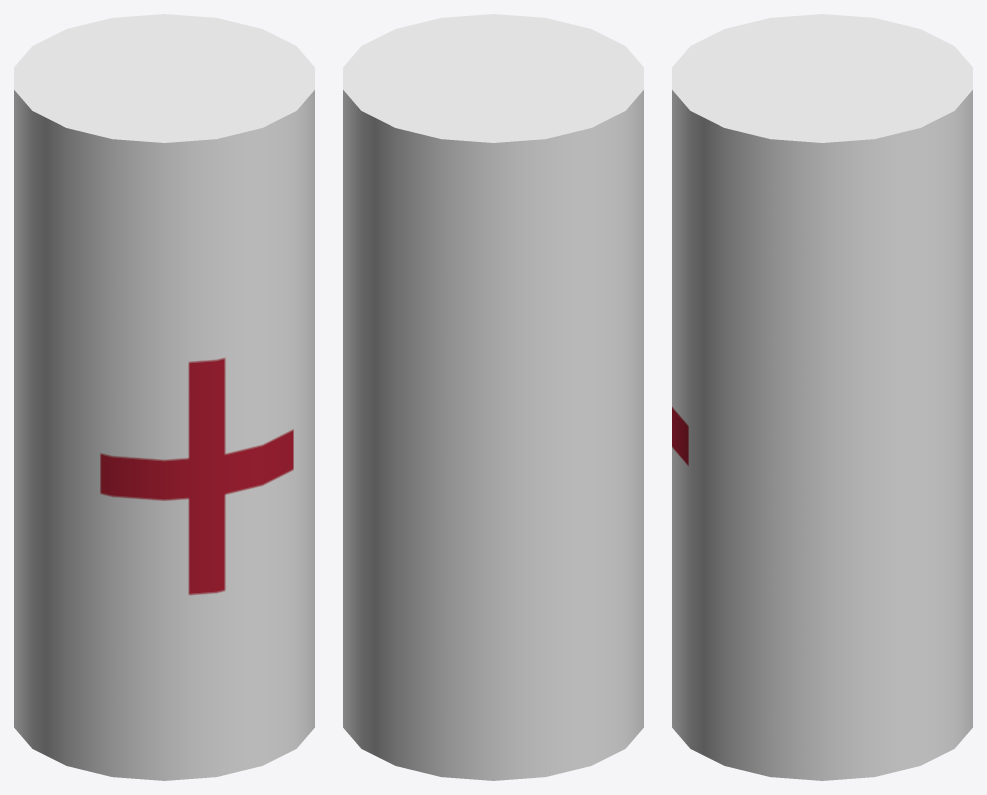
The model's file is vendaje.FBX.
The picture shows the model from 3 angles, left to right: view 1: azimuth 30°, elevation 25°; view 2: azimuth 150°, elevation 25°; view 3: azimuth 270°, elevation 25°; orthographic projection.
Parts seen in each view (by area): view 1: Venda; view 2: Venda; view 3: Venda.
Part boxes in pixels (x1,y1,x2,y2): Venda: (14, 14, 314, 780); Venda: (343, 14, 643, 780); Venda: (672, 14, 972, 780).
Size of the model in its own units: 2.98 by 6.86 by 2.93.
